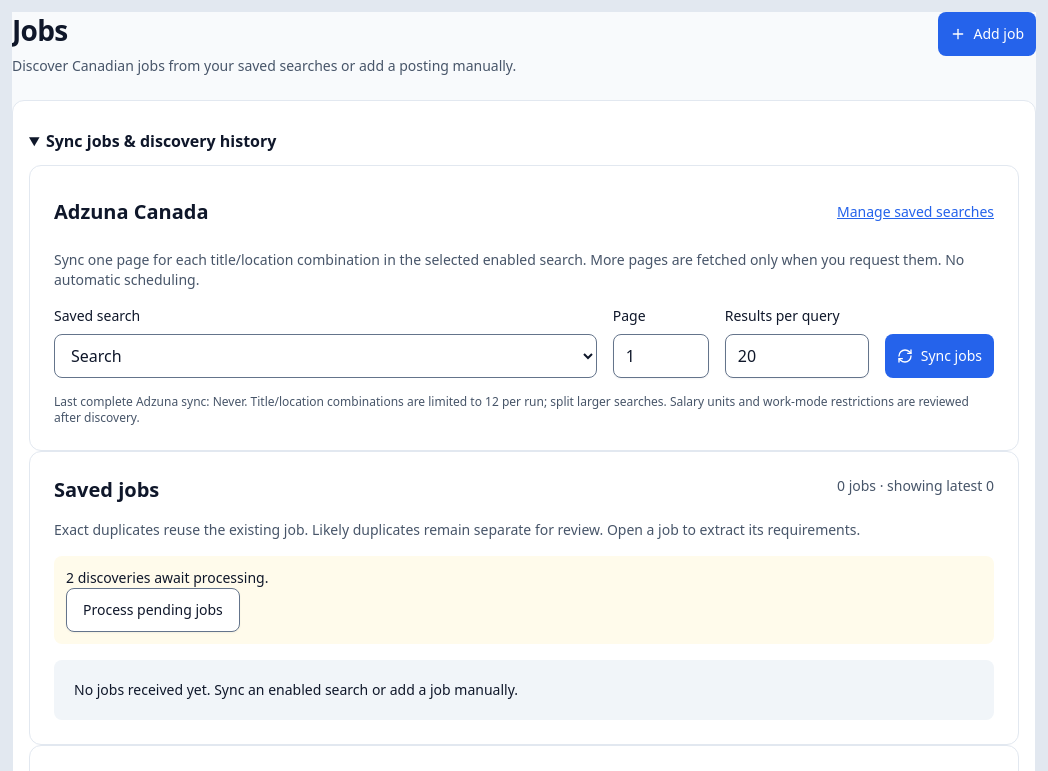
Test case: processes legacy pending records explicitly
What coordinates should you click on to do the following:
click the button "Process pending jobs"
I would click on:
 (153, 610)
Its box is x1=66 y1=588 x2=240 y2=632.
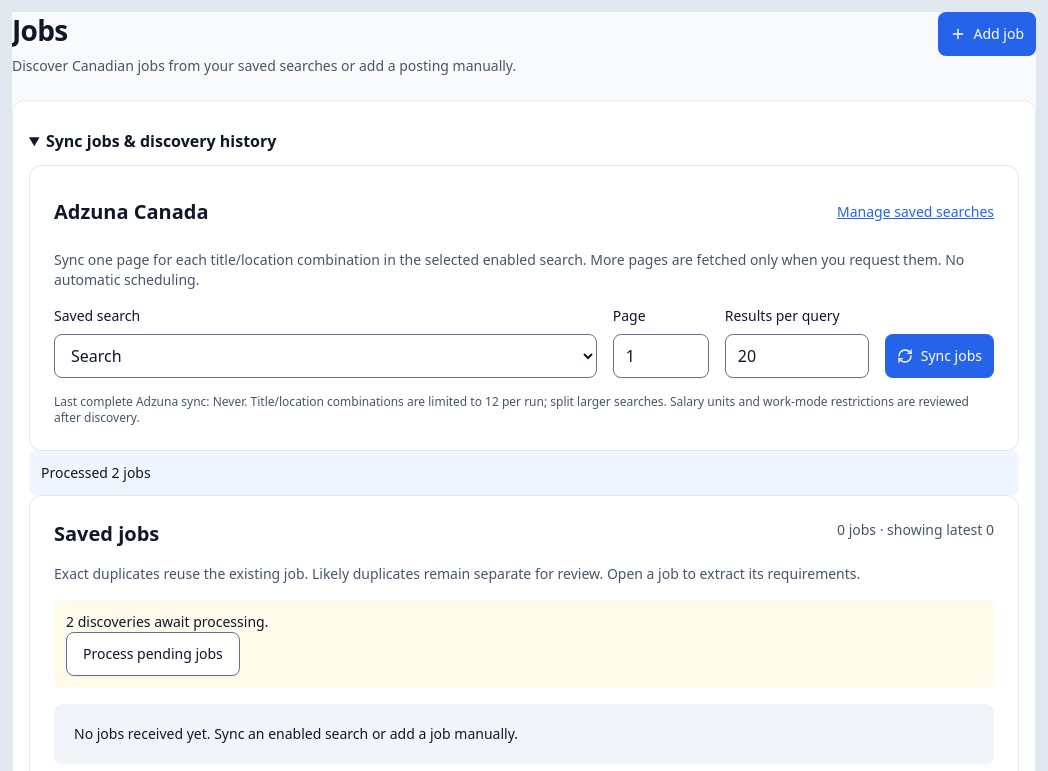
Expected: the message reads "Processed 2 jobs", x1=41 y1=463 x2=151 y2=482
